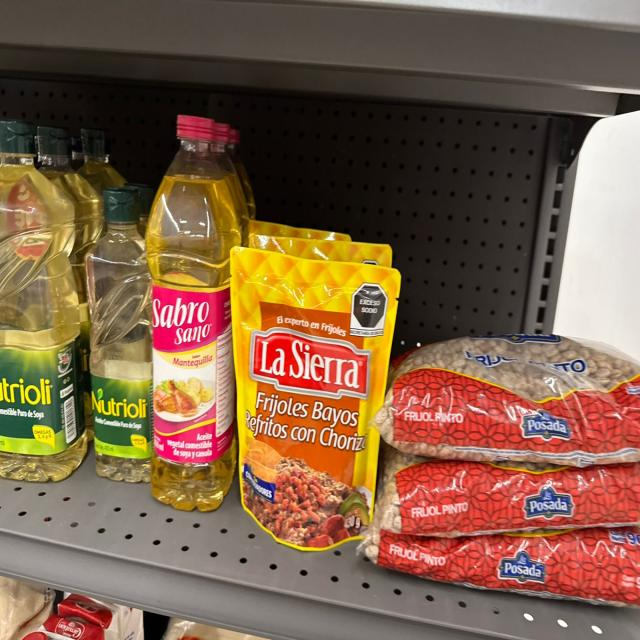ACEITE NUTRIOLI 400 ML: (87, 190, 150, 477)
Aceite Comestible Nutrioli 850ml: (0, 118, 90, 486), (41, 128, 101, 312), (75, 128, 122, 187)
Aceite Sabrosano 850ml: (143, 108, 244, 487), (219, 126, 265, 238)
Frijol La Sierra Chorizo 430 bolsa: (231, 249, 401, 546), (249, 233, 395, 258)
Frijol Pinto La Posada 900gr: (378, 339, 640, 471), (380, 452, 637, 544), (358, 527, 640, 606)
